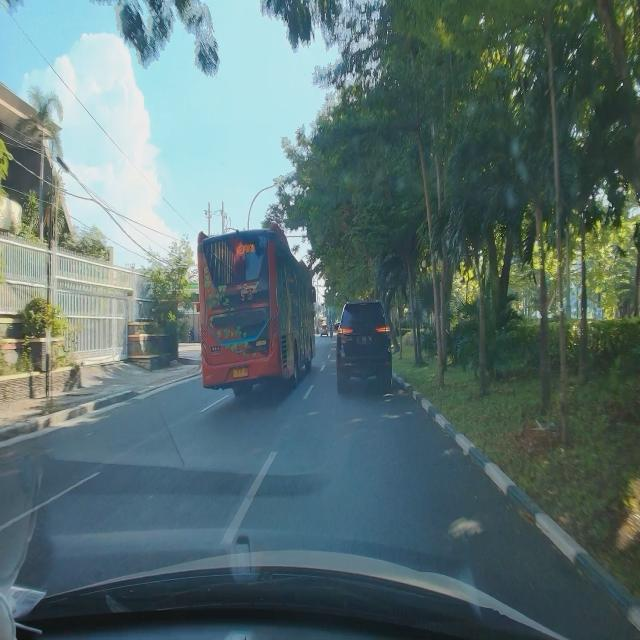bus: (194, 221, 318, 402)
car: (334, 298, 394, 396)
license-plate: (232, 367, 248, 379), (356, 335, 372, 345)
